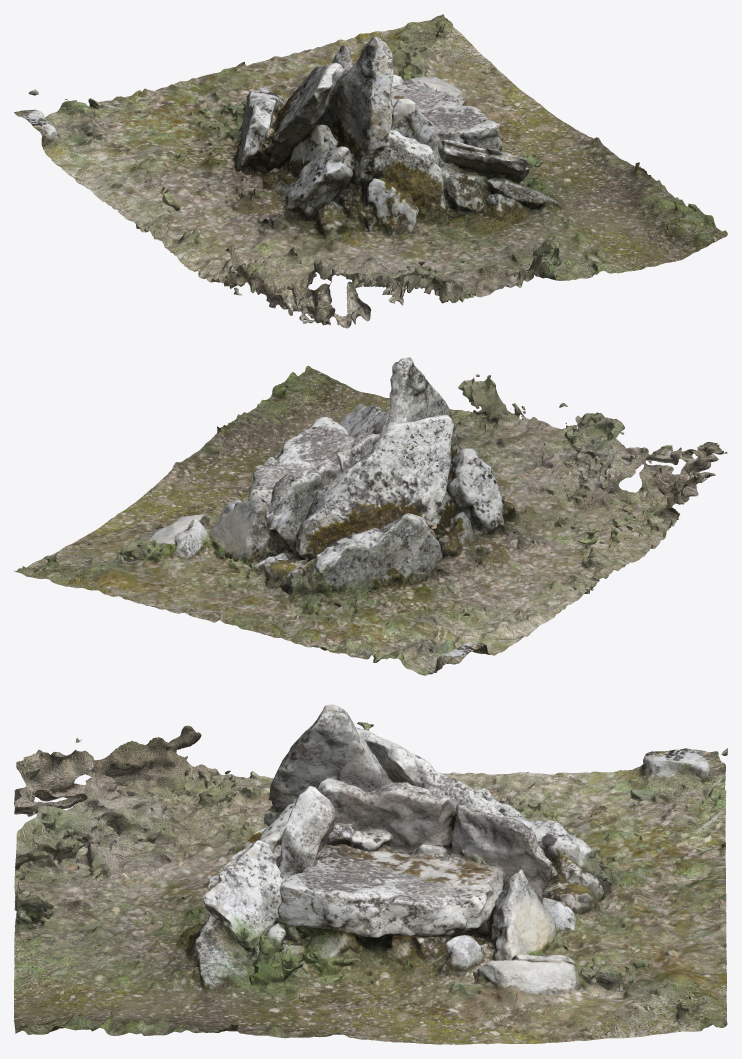
File: rochers_calcaires.glb
3 renders of one model, top to bottom at view 1: azimuth 30°, elevation 25°; view 2: azimuth 150°, elevation 25°; view 3: azimuth 270°, elevation 25°, orthographic. The views are drawn at different scales.
Visible parts, largest first — view 1: Object_2, Object_3, Object_4, Object_5; view 2: Object_2, Object_3, Object_4, Object_5; view 3: Object_2, Object_3, Object_4, Object_5.
Part boxes in pixels (x1=…): Object_2: x1=146, y1=19, x2=678, y2=289; Object_3: x1=14, y1=15, x2=727, y2=328; Object_4: x1=41, y1=35, x2=638, y2=326; Object_5: x1=28, y1=14, x2=696, y2=325; Object_2: x1=22, y1=358, x2=651, y2=636; Object_3: x1=16, y1=357, x2=723, y2=675; Object_4: x1=55, y1=357, x2=718, y2=662; Object_5: x1=14, y1=374, x2=727, y2=668; Object_2: x1=14, y1=705, x2=726, y2=1044; Object_3: x1=14, y1=704, x2=727, y2=1035; Object_4: x1=14, y1=732, x2=726, y2=1043; Object_5: x1=14, y1=722, x2=727, y2=1038.
Bounding box in the file's own units: 13.34 × 4.95 × 15.24.
Materials: 4 (4 with a texture image).
